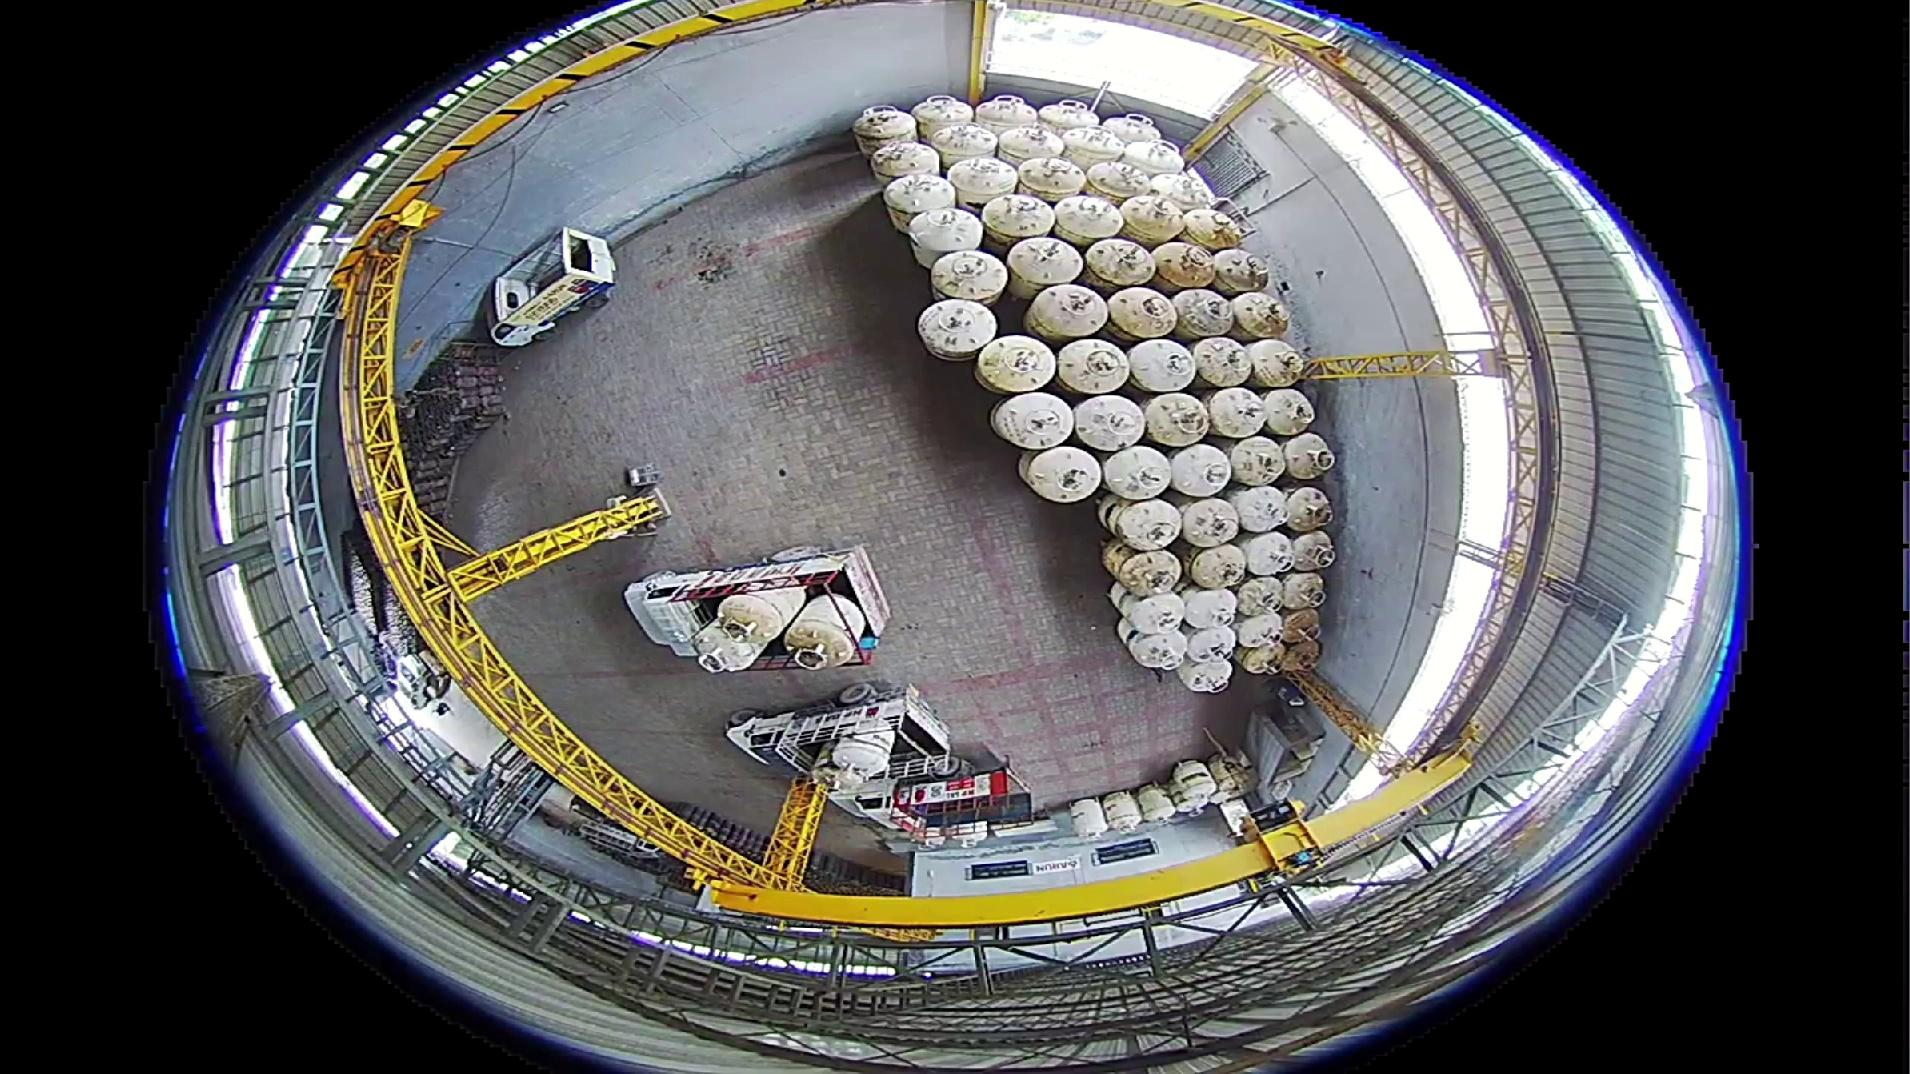cylinder: (803, 587, 880, 687), (916, 299, 998, 370), (711, 588, 801, 652), (840, 733, 909, 813), (990, 390, 1075, 451), (973, 333, 1056, 395), (906, 205, 985, 269), (1026, 283, 1106, 346), (1019, 444, 1101, 504), (1005, 234, 1082, 294), (929, 247, 1007, 305), (1055, 337, 1131, 396), (1070, 393, 1146, 452), (1102, 443, 1176, 501), (1125, 336, 1198, 393), (883, 171, 958, 226), (1105, 285, 1178, 340), (981, 192, 1054, 247), (1109, 496, 1181, 551), (1052, 193, 1125, 247), (1141, 391, 1211, 447), (1082, 236, 1154, 290), (947, 154, 1021, 206), (1168, 442, 1234, 498), (1113, 543, 1181, 597), (1119, 191, 1187, 244), (1190, 335, 1255, 389), (1206, 385, 1271, 439), (1150, 241, 1217, 292), (1017, 155, 1087, 203), (1178, 496, 1241, 549), (871, 139, 940, 187), (852, 105, 918, 155), (1171, 288, 1234, 340), (929, 121, 998, 168), (1226, 434, 1286, 487), (1230, 290, 1292, 341), (1230, 483, 1290, 535), (1246, 338, 1307, 389), (1179, 207, 1244, 254), (1061, 125, 1127, 171), (709, 619, 753, 688), (1086, 158, 1153, 203), (1189, 541, 1249, 591), (1209, 247, 1270, 295), (996, 124, 1062, 168), (1124, 590, 1187, 636), (1125, 625, 1186, 672), (912, 95, 974, 141), (1242, 528, 1299, 578), (1260, 386, 1317, 436), (1281, 431, 1336, 481), (1149, 171, 1214, 213), (1182, 587, 1240, 633), (974, 93, 1037, 134), (1175, 651, 1233, 694), (1122, 137, 1184, 177), (1282, 484, 1333, 531), (1168, 757, 1217, 805), (1183, 622, 1236, 666), (1101, 112, 1162, 149), (1234, 573, 1284, 618), (1286, 530, 1336, 574), (1232, 608, 1284, 650), (1206, 750, 1251, 798), (1037, 99, 1097, 134), (1279, 570, 1328, 612), (1101, 788, 1143, 831), (1100, 538, 1144, 579), (1280, 604, 1324, 644), (1135, 783, 1176, 825), (1096, 492, 1135, 535), (1068, 796, 1107, 838), (1279, 634, 1322, 672), (1238, 641, 1284, 675), (1106, 579, 1134, 611), (1114, 615, 1139, 644)
truck: (623, 547, 891, 674), (726, 702, 1029, 787), (460, 249, 689, 344), (558, 788, 772, 888), (394, 342, 509, 520), (346, 538, 445, 715), (888, 764, 1033, 846), (624, 574, 711, 656)
